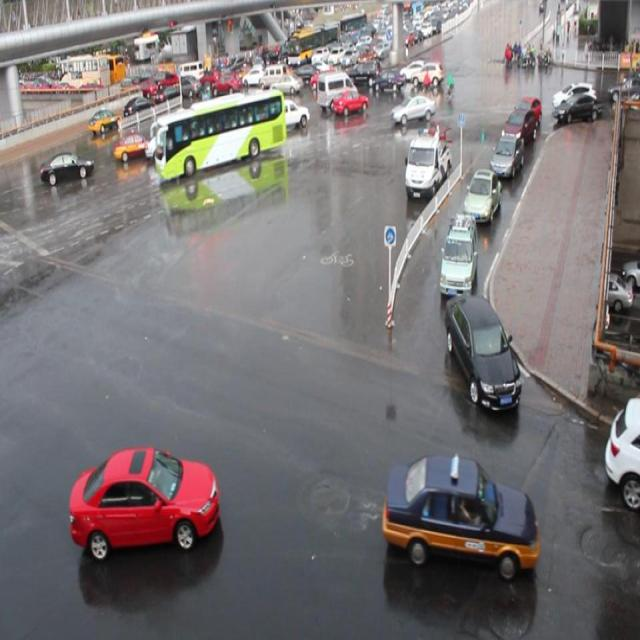bus: (402, 129, 452, 202)
car: (382, 453, 538, 577), (69, 445, 220, 556), (444, 291, 521, 411), (602, 396, 640, 510), (439, 214, 477, 292), (462, 168, 500, 221), (199, 112, 247, 150), (41, 152, 94, 184), (144, 126, 192, 160), (166, 108, 209, 144), (488, 135, 522, 177), (390, 94, 435, 125), (499, 109, 534, 147), (268, 96, 309, 128), (113, 129, 153, 158), (331, 88, 368, 116), (517, 94, 543, 132)
truck: (228, 90, 271, 128), (316, 71, 358, 108)
van: (156, 88, 284, 178)
